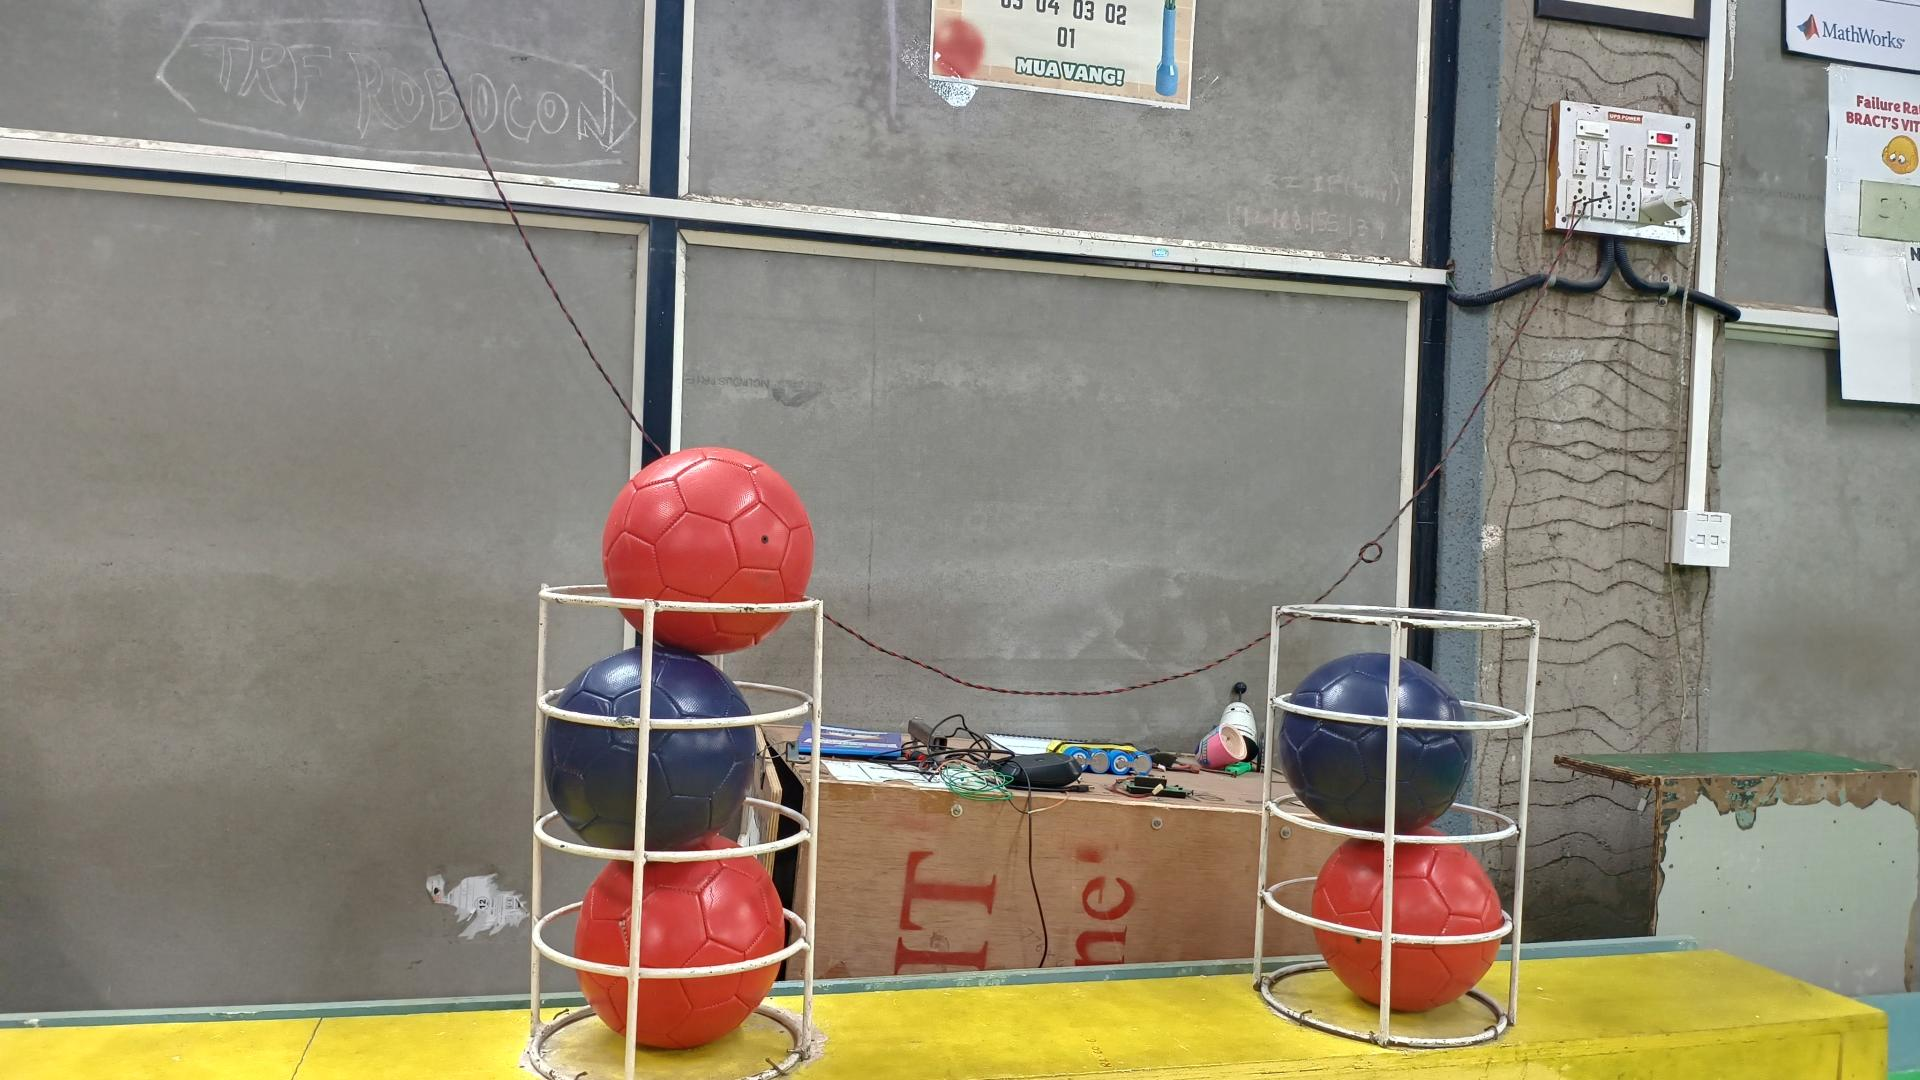dhoka: (538, 645, 756, 852), (1280, 650, 1472, 833)
laale: (574, 835, 787, 1052), (599, 446, 812, 655), (1309, 841, 1505, 1014)
